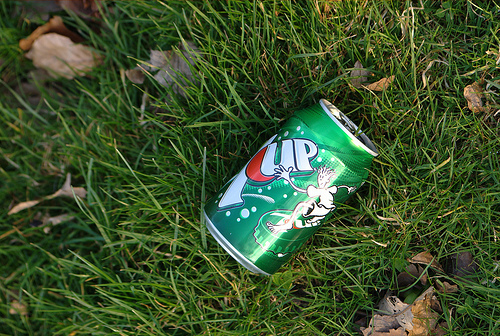litter: (202, 98, 377, 275)
